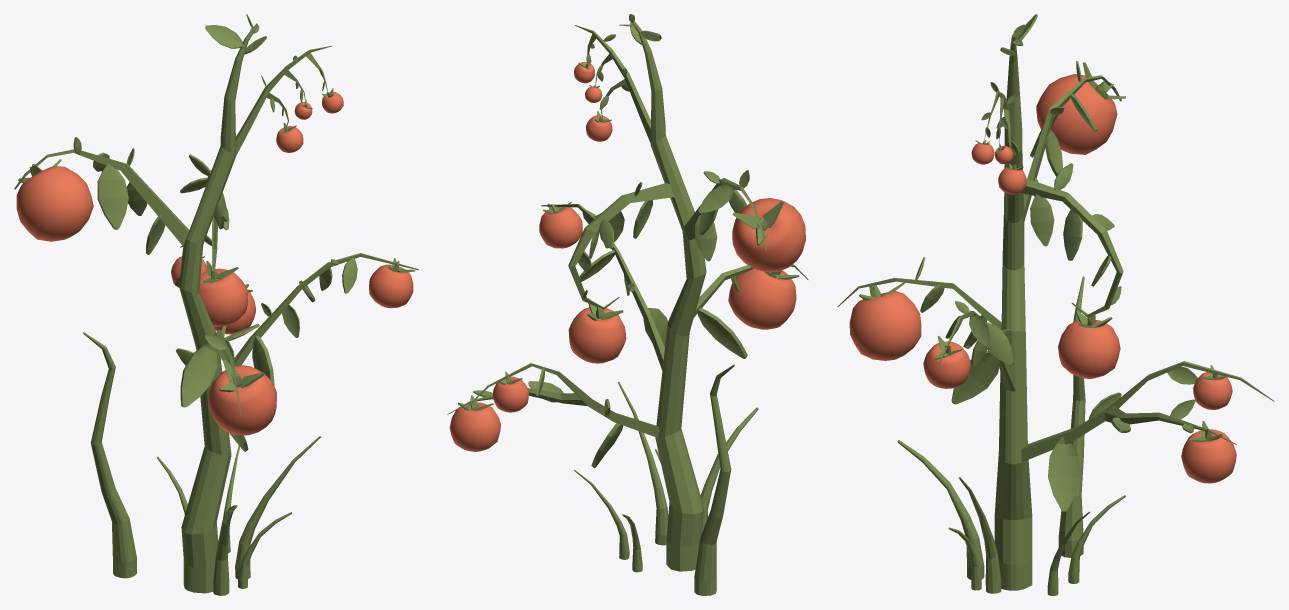
File: tomates.fbx
3 views of the same model, side by side, from view 1: azimuth 30°, elevation 25°; view 2: azimuth 150°, elevation 25°; view 3: azimuth 270°, elevation 25° (orthographic). The views are drawn at different scales.
Parts seen in each view (by area): view 1: pSphere11; view 2: pSphere11; view 3: pSphere11.
Boxes of the visible parts, x1,y1,x2,y2 form: pSphere11: (14, 14, 418, 595); pSphere11: (447, 14, 808, 595); pSphere11: (837, 14, 1274, 595).
Bounding box in the file's own units: 19.85 × 31.72 × 21.52.
